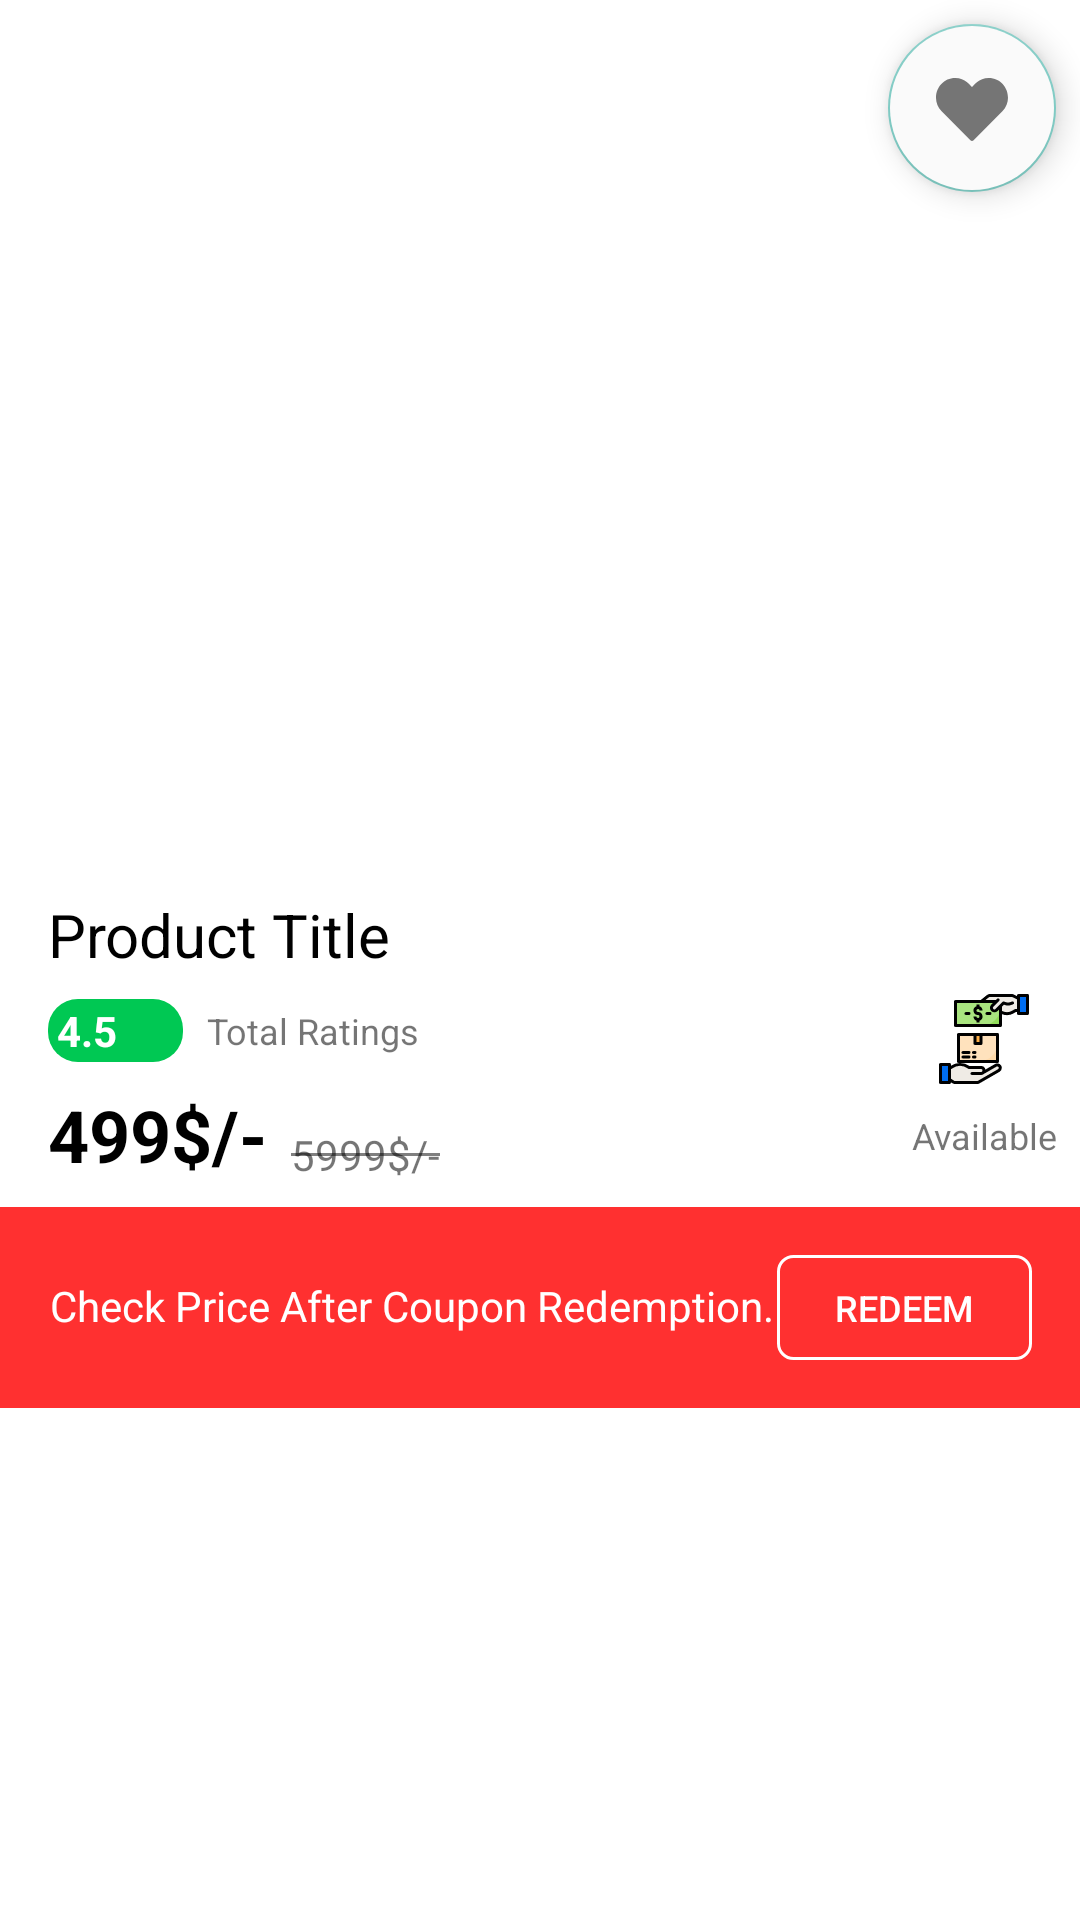

Icon bounding boxes for this 1080 × 1920 phone screenshot, format [x1,y1,x2,y2]:
cod: [939,994,1029,1084]
heart: [888,24,1056,192]
